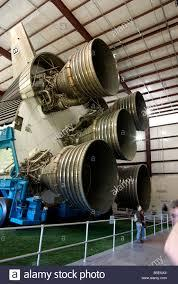body: (0, 94, 102, 208)
thruster: (56, 137, 121, 218), (55, 35, 123, 100), (78, 107, 138, 163), (113, 163, 156, 213), (108, 88, 153, 134)
